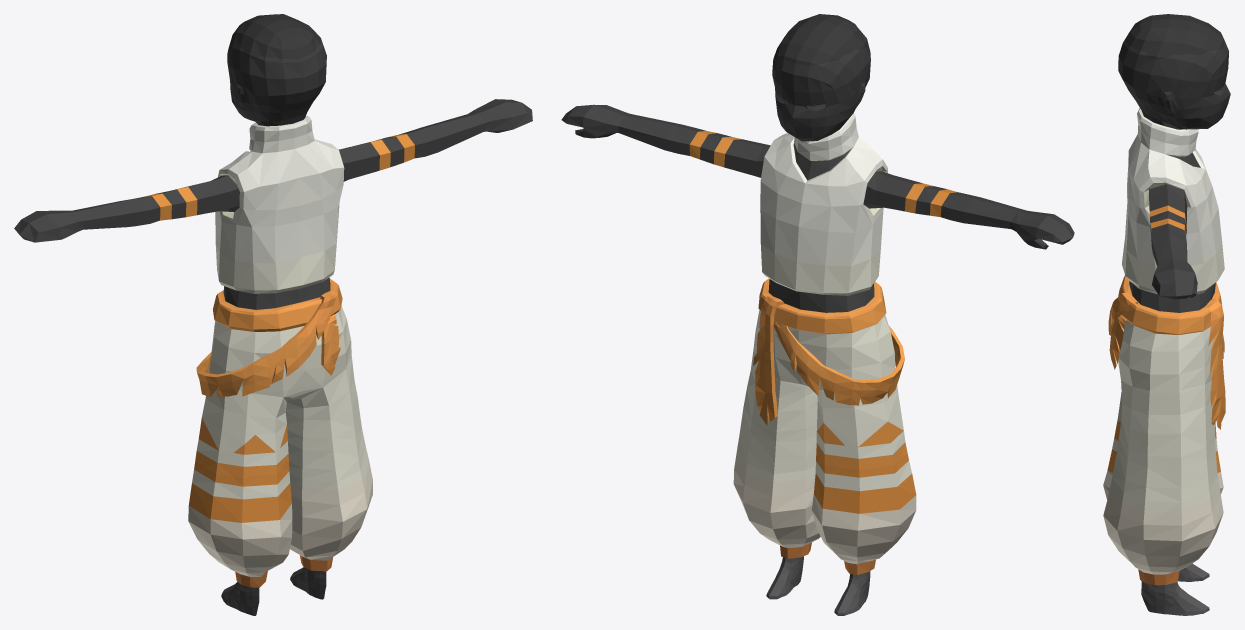
Rendered from CharSkyKid_Body_AP16WhiteCropTop.glb.
3 views of the same model, side by side, from view 1: azimuth 30°, elevation 25°; view 2: azimuth 150°, elevation 25°; view 3: azimuth 270°, elevation 25° (orthographic).
Parts seen in each view (by area): view 1: CharSkyKid_Body_AP16WhiteCropTop; view 2: CharSkyKid_Body_AP16WhiteCropTop; view 3: CharSkyKid_Body_AP16WhiteCropTop.
Part boxes in pixels (x1,y1,x2,y2): CharSkyKid_Body_AP16WhiteCropTop: (14,14,532,615); CharSkyKid_Body_AP16WhiteCropTop: (561,14,1074,615); CharSkyKid_Body_AP16WhiteCropTop: (1103,14,1230,615).
Size of the model in its own units: 13.83 by 14.94 by 3.
Materials: 1 (1 with a texture image).
